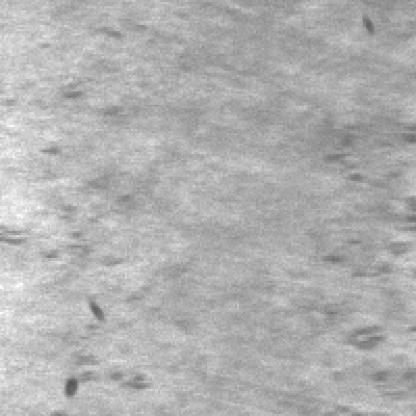rolled-in_scale: (48, 21, 158, 397), (304, 102, 416, 408)
